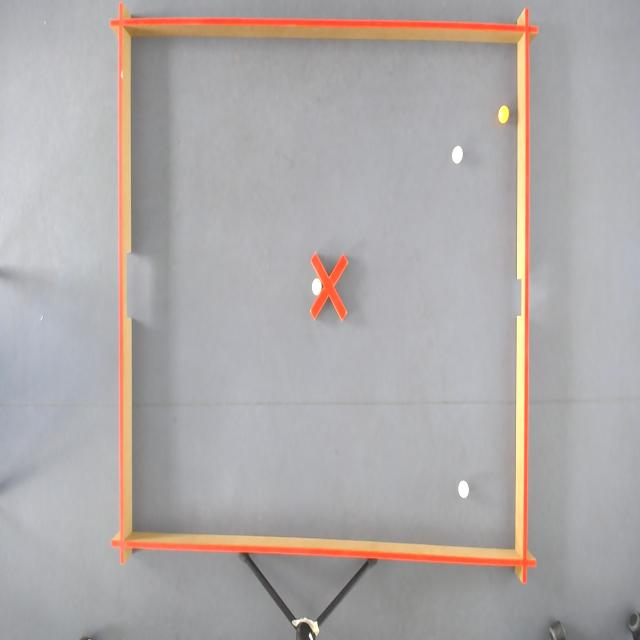cross: (310, 251, 349, 321)
orange_ball: (497, 102, 511, 126)
white_ball: (450, 142, 464, 166), (457, 478, 470, 501), (310, 276, 323, 298)
